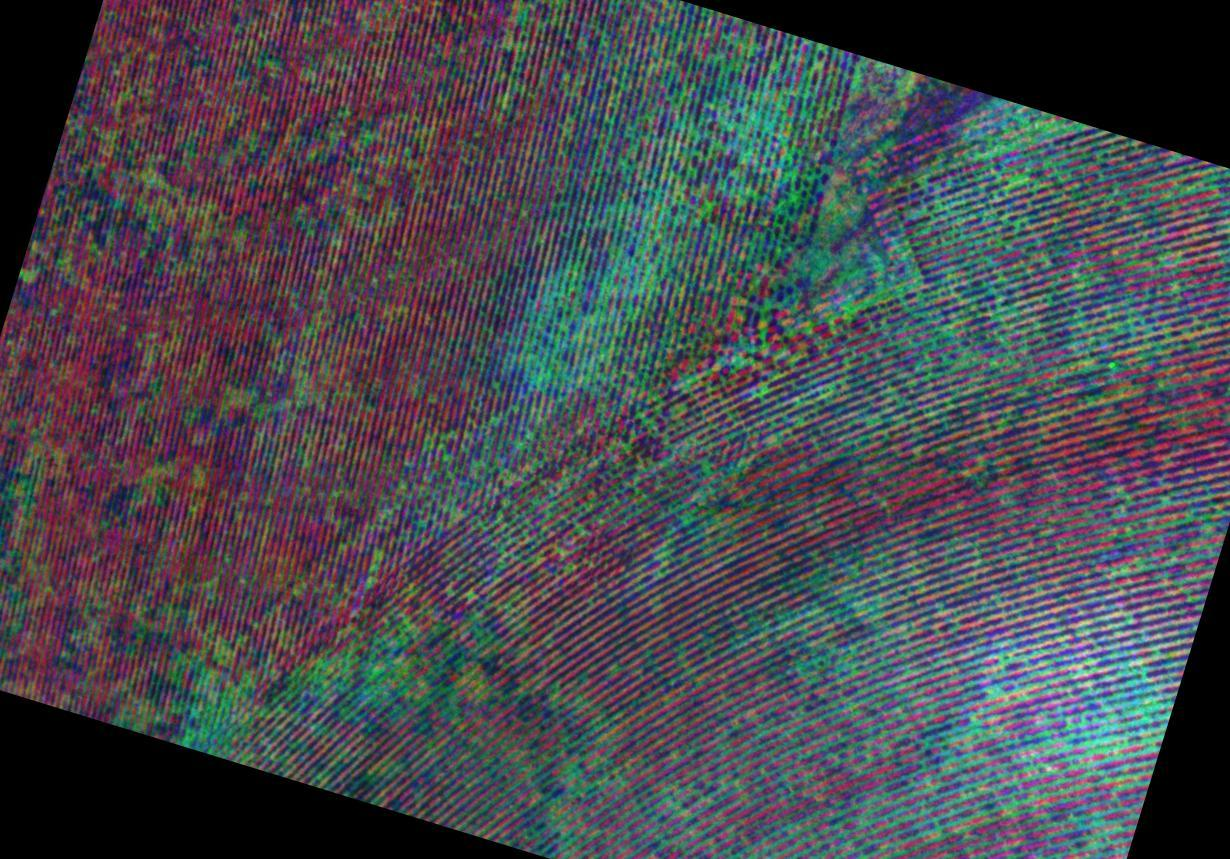dc: (518, 290, 624, 395), (671, 73, 773, 166), (803, 570, 892, 663), (178, 655, 267, 745), (1086, 663, 1160, 746)
